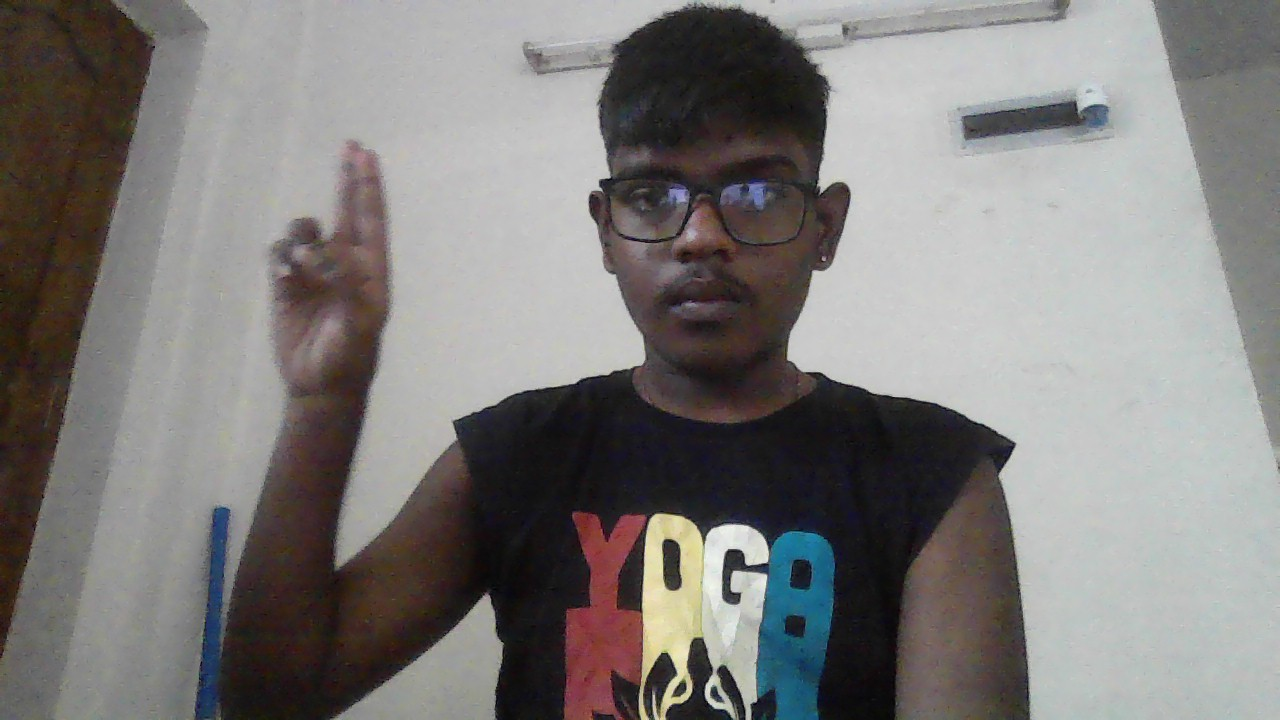U: (270, 141, 390, 401)
